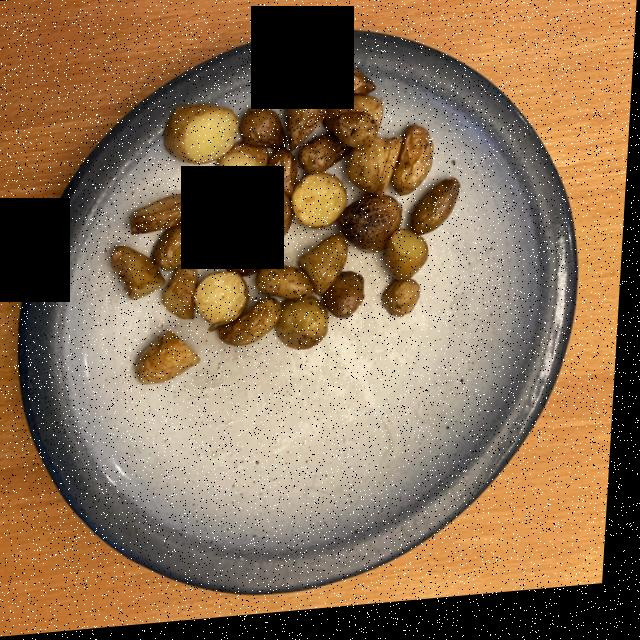baked-potato: (119, 73, 460, 376)
